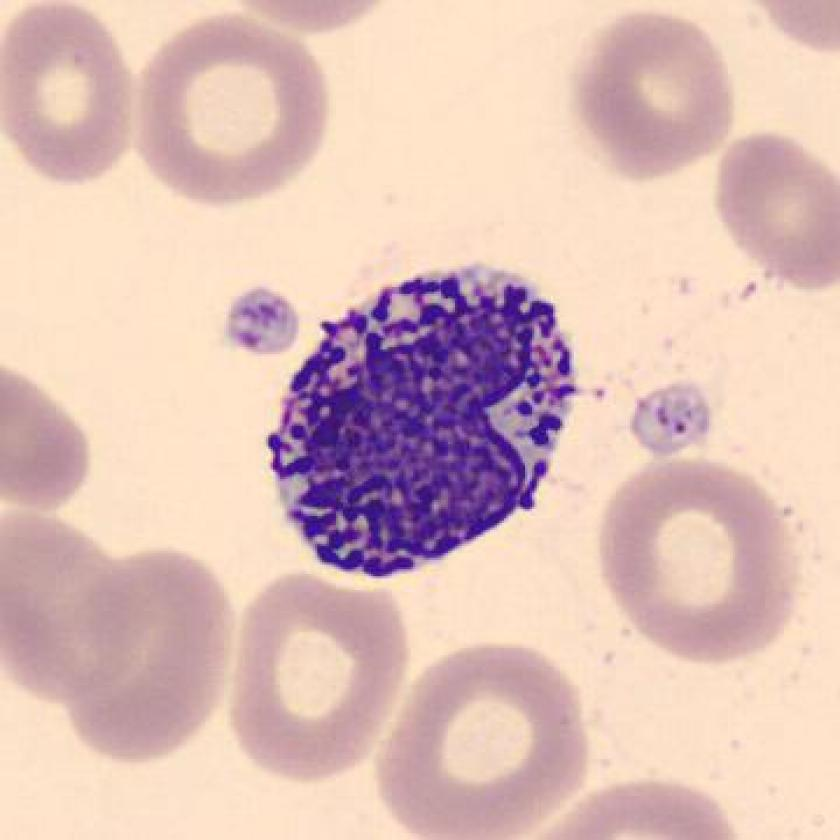basophil: (253, 244, 587, 584)
